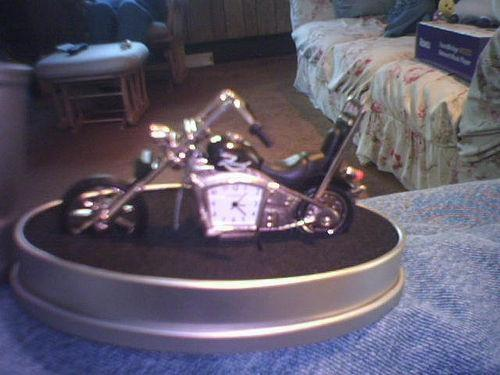motorcycle: (60, 87, 366, 242)
